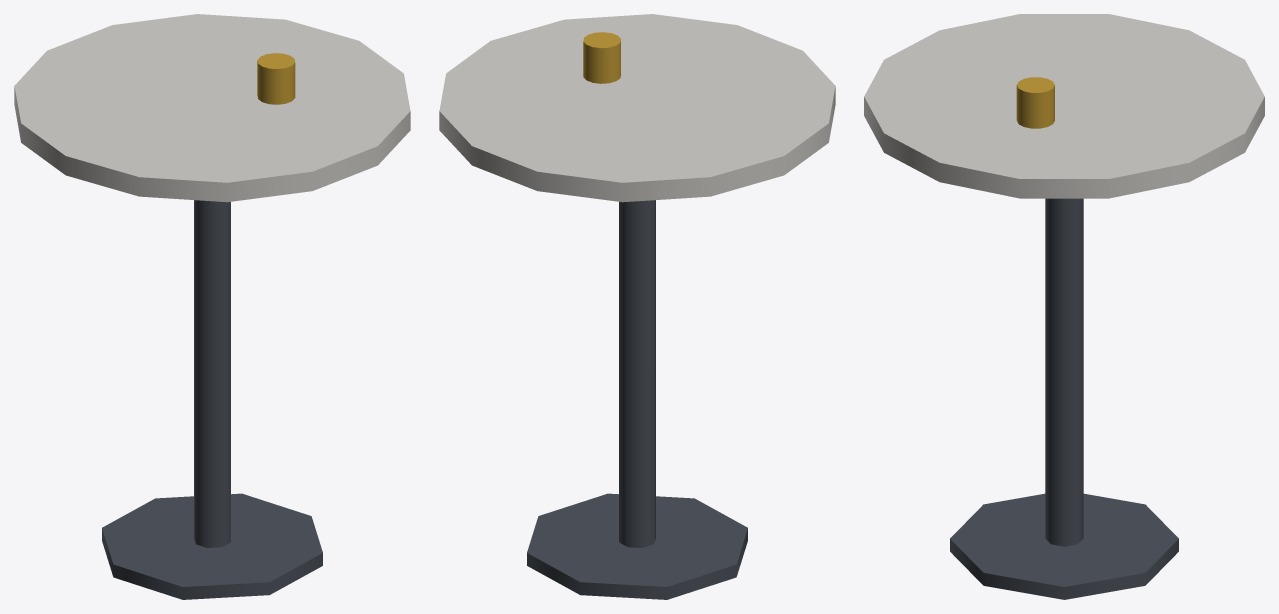
Rendered from mesa-alta.glb.
3 views of the same model, side by side, from view 1: azimuth 30°, elevation 25°; view 2: azimuth 150°, elevation 25°; view 3: azimuth 270°, elevation 25° (orthographic).
Visible parts, largest first — view 1: mesa-alta_malha; view 2: mesa-alta_malha; view 3: mesa-alta_malha.
Part boxes in pixels (x1,y1,x2,y2): mesa-alta_malha: (14, 14, 410, 599); mesa-alta_malha: (439, 14, 835, 599); mesa-alta_malha: (864, 14, 1264, 599).
Bounding box in the file's own units: 0.8189 × 1.14 × 0.84.
